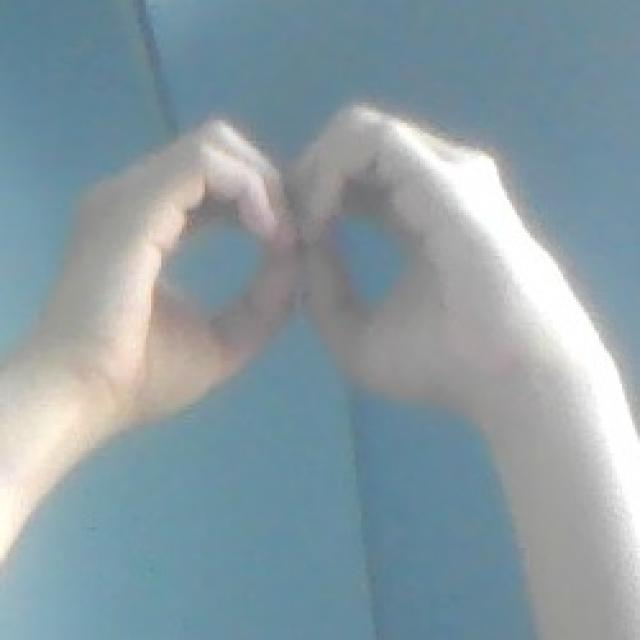Alphabet-B: (33, 77, 564, 404)
